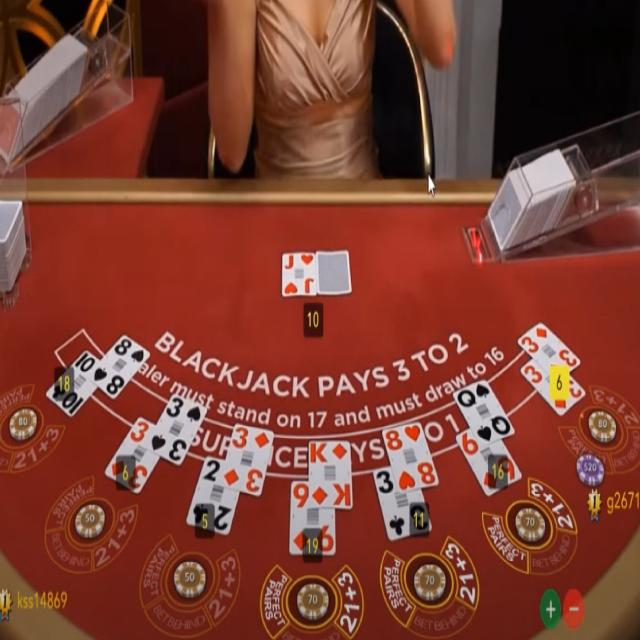Card-10: (46, 348, 100, 418)
Card-2: (187, 454, 239, 536)
Card-3: (144, 392, 206, 465), (373, 466, 432, 541), (104, 415, 159, 494), (517, 321, 581, 382), (220, 423, 273, 496), (520, 359, 586, 417)
Card-6: (455, 429, 522, 496)
Card-8: (87, 333, 150, 400), (382, 422, 438, 493)
Card-9: (289, 481, 335, 555)
Card-J: (283, 251, 316, 297)
Card-K: (309, 441, 352, 508)
Card-Q: (453, 378, 515, 447)
